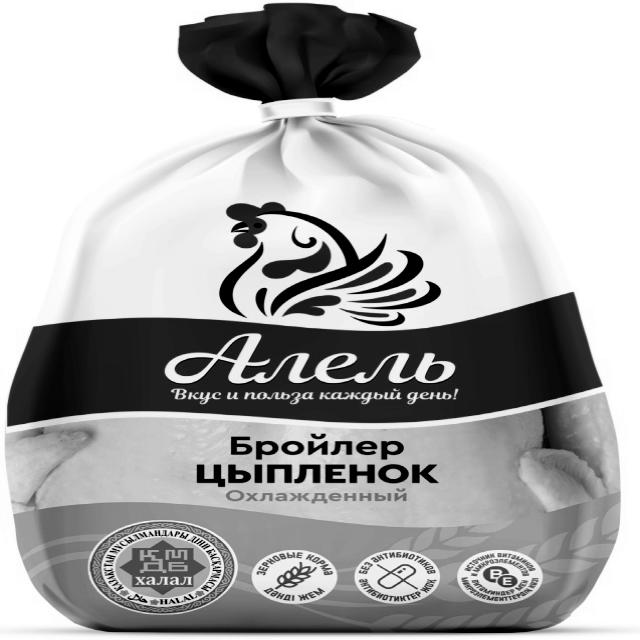alel: (146, 189, 477, 417)
